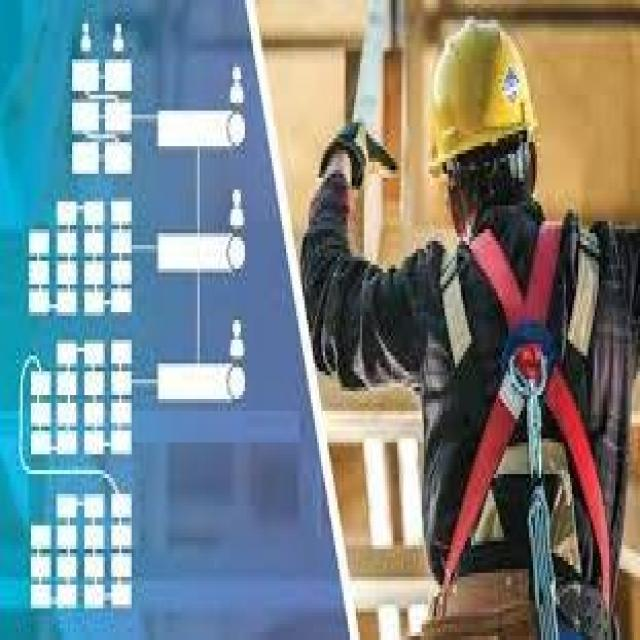Safety-Helmet: (416, 12, 550, 186)
